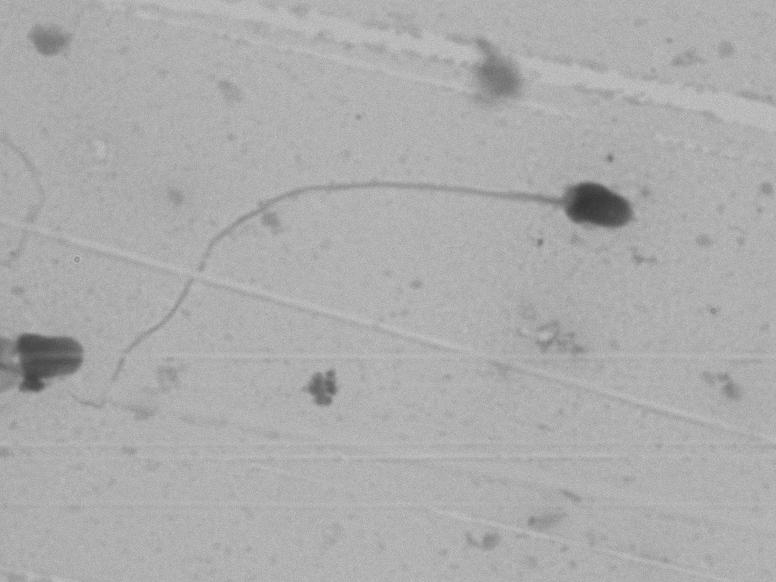Abnormal: (104, 136, 689, 400)
